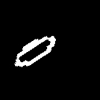chain: (15, 36, 55, 66)
